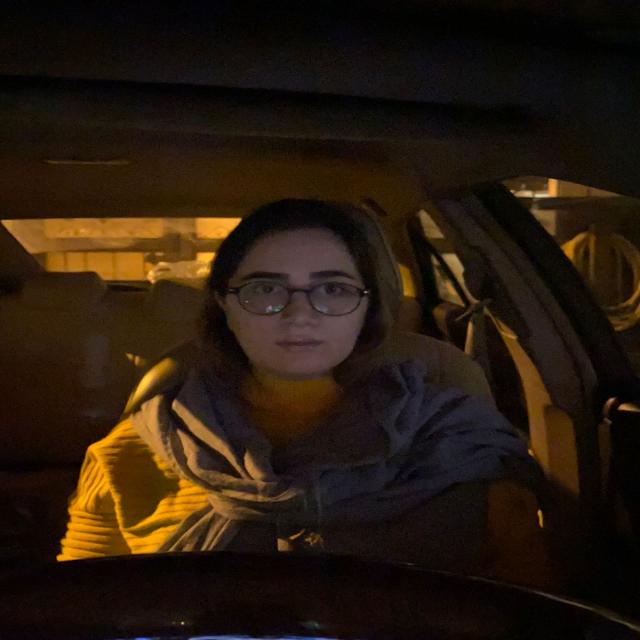person: (214, 202, 380, 384)
